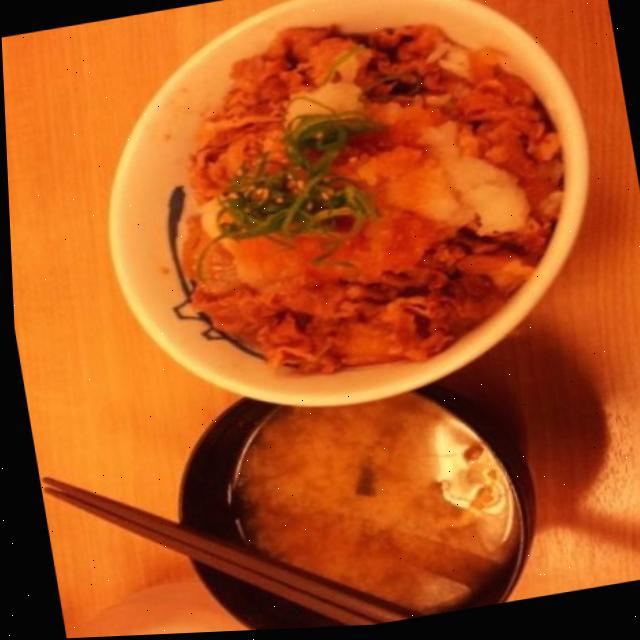汤锅炖物: (135, 352, 546, 636)
